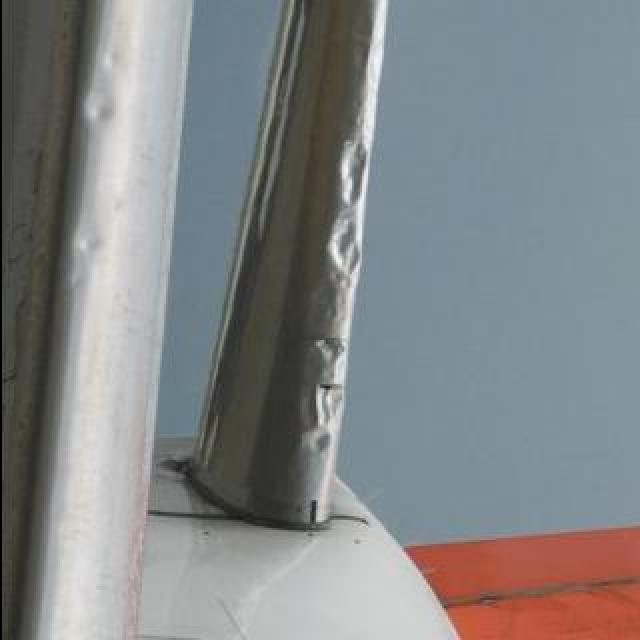crack: (311, 379, 347, 395)
dent: (302, 1, 386, 459)
